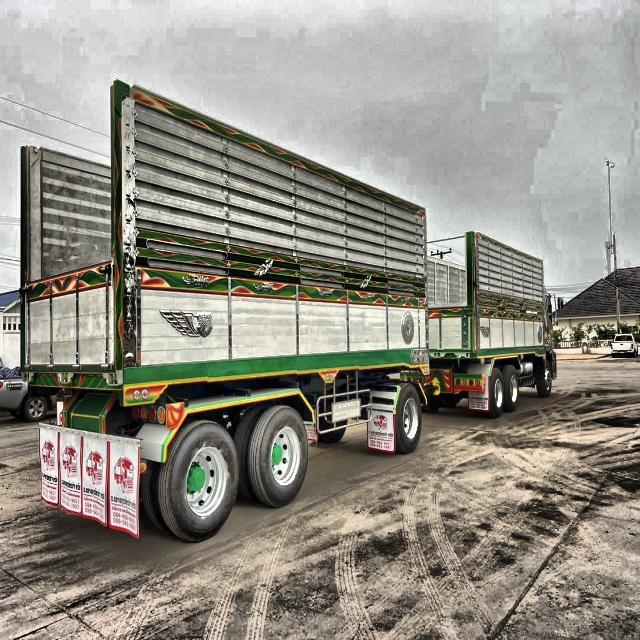trailer: (14, 66, 560, 548)
